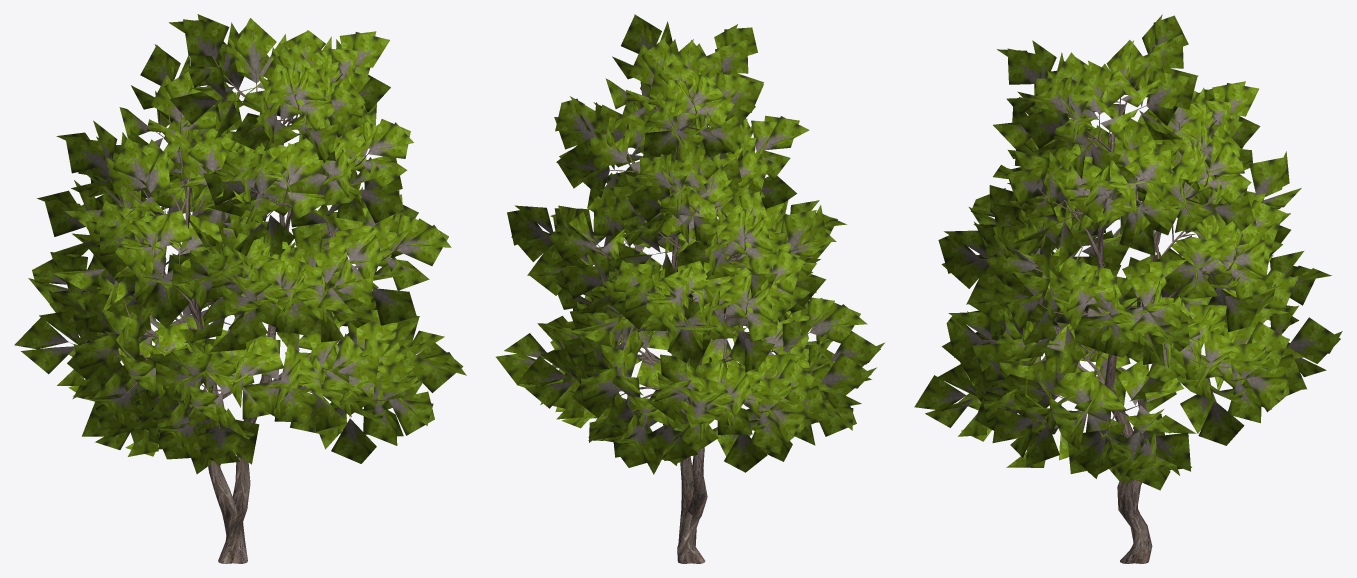
File: elm.fbx
3 views of the same model, side by side, from view 1: azimuth 30°, elevation 25°; view 2: azimuth 150°, elevation 25°; view 3: azimuth 270°, elevation 25° (orthographic). The views are drawn at different scales.
Visible parts, largest first — view 1: Tree_1, Tree_0; view 2: Tree_1, Tree_0; view 3: Tree_1, Tree_0.
Part boxes in pixels (bbox=[...]): Tree_1: bbox=[14, 14, 466, 473]; Tree_0: bbox=[65, 56, 402, 563]; Tree_1: bbox=[496, 14, 884, 474]; Tree_0: bbox=[546, 86, 821, 563]; Tree_1: bbox=[914, 14, 1342, 490]; Tree_0: bbox=[963, 81, 1252, 563].
Size of the model in its own units: 64.52 by 92.59 by 68.09.
Materials: 2 (2 with a texture image).
